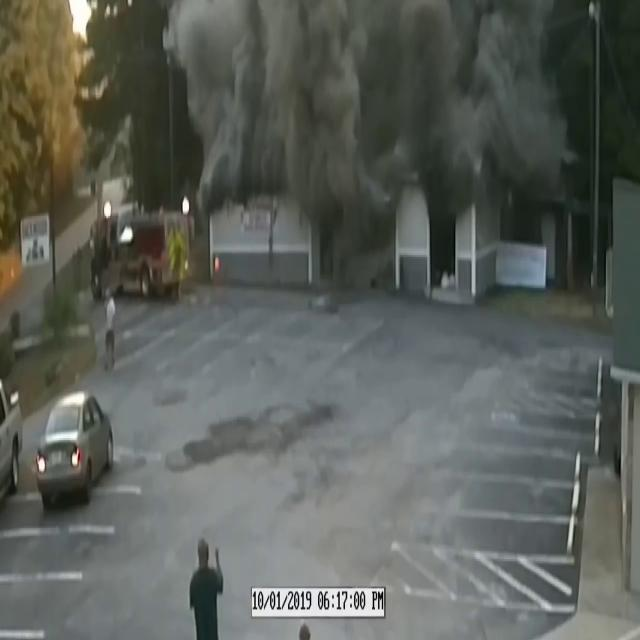Smoke: (167, 1, 576, 260)
